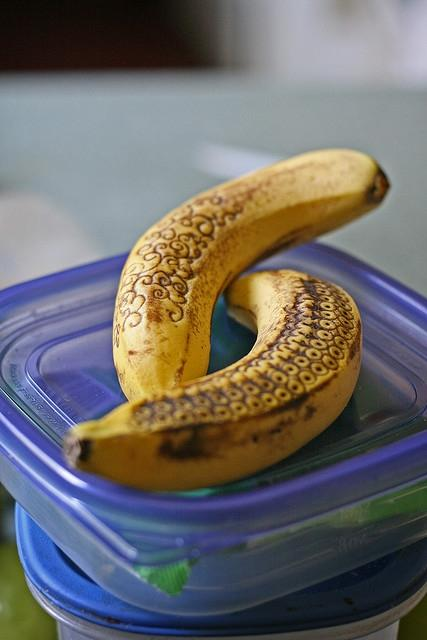banana: (112, 148, 389, 400), (66, 269, 362, 492)
